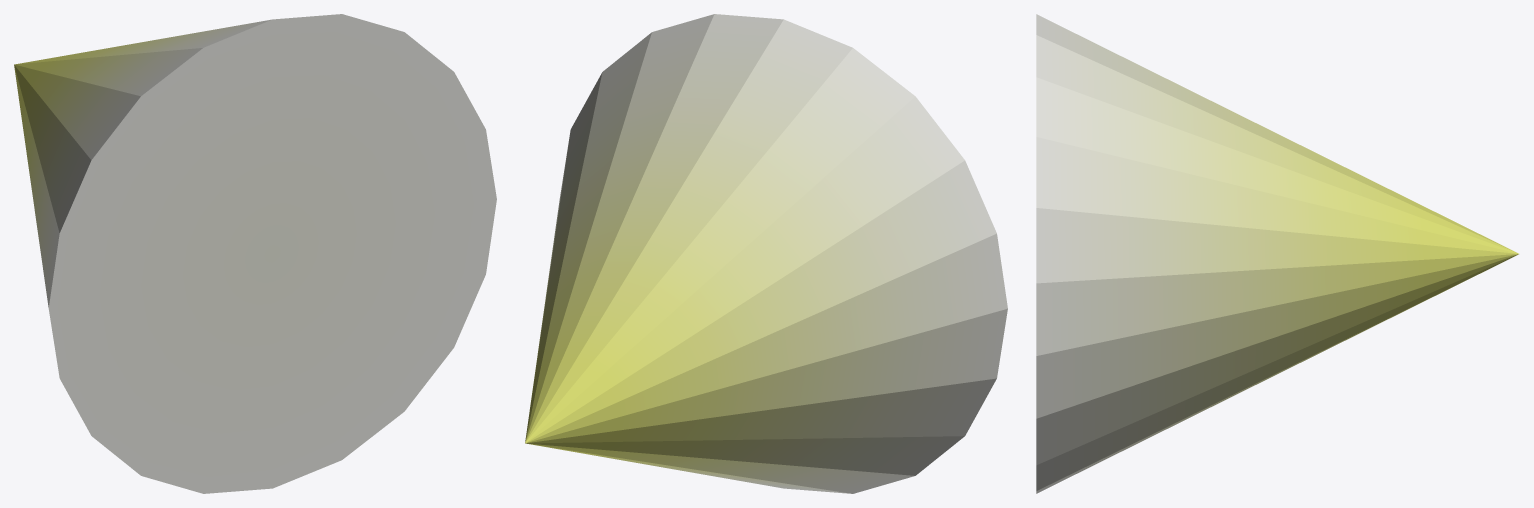
3 views of the same model, side by side, from view 1: azimuth 30°, elevation 25°; view 2: azimuth 150°, elevation 25°; view 3: azimuth 270°, elevation 25° (orthographic). The views are drawn at different scales.
Visible parts, largest first — view 1: Cone01; view 2: Cone01; view 3: Cone01.
Boxes of the visible parts, left/top/right/bottom form: Cone01: left=14, top=14, right=496, bottom=493; Cone01: left=525, top=14, right=1007, bottom=493; Cone01: left=1036, top=14, right=1518, bottom=493.
Size of the model in its own units: 2 by 2 by 2.
